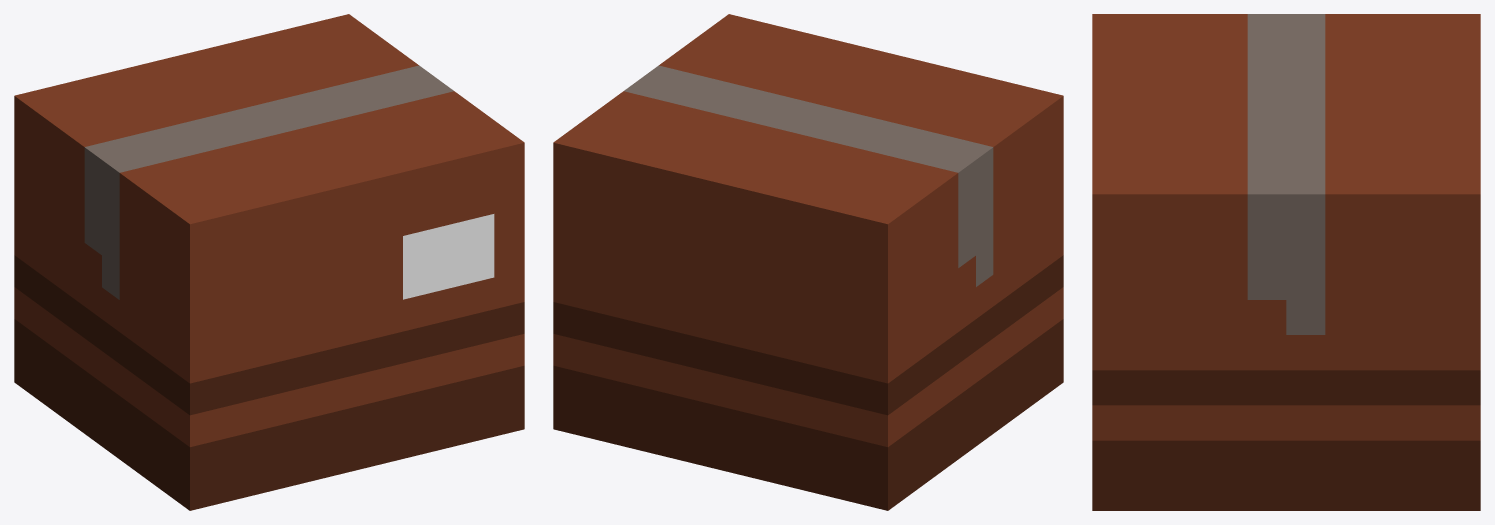
Rendered from CaixinhaColo.obj.
3 views of the same model, side by side, from view 1: azimuth 30°, elevation 25°; view 2: azimuth 150°, elevation 25°; view 3: azimuth 270°, elevation 25° (orthographic). The views are drawn at different scales.
Size of the model in its own units: 1.1 by 0.9 by 1.
Materials: 1 (1 with a texture image).
